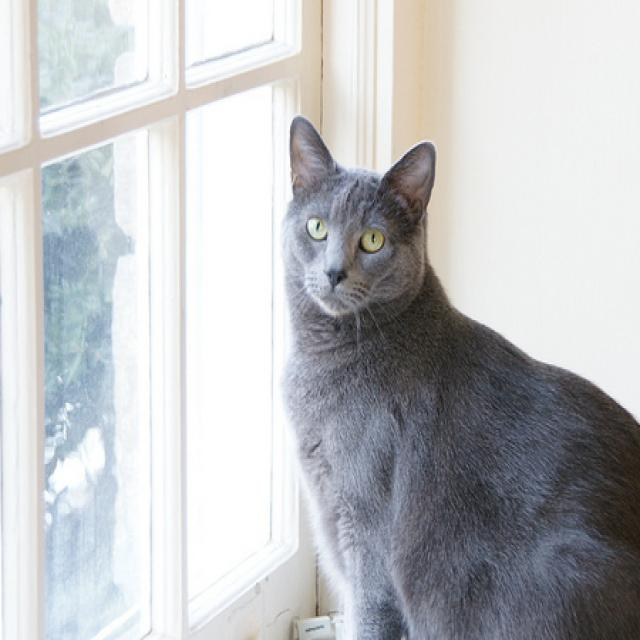Russian Blue: (276, 110, 640, 640)
